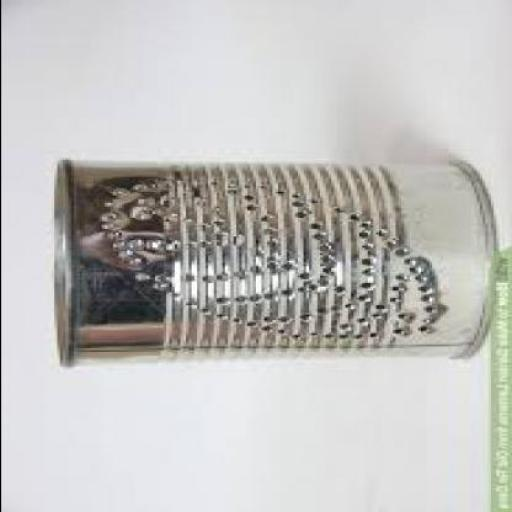metal: (53, 158, 498, 365)
